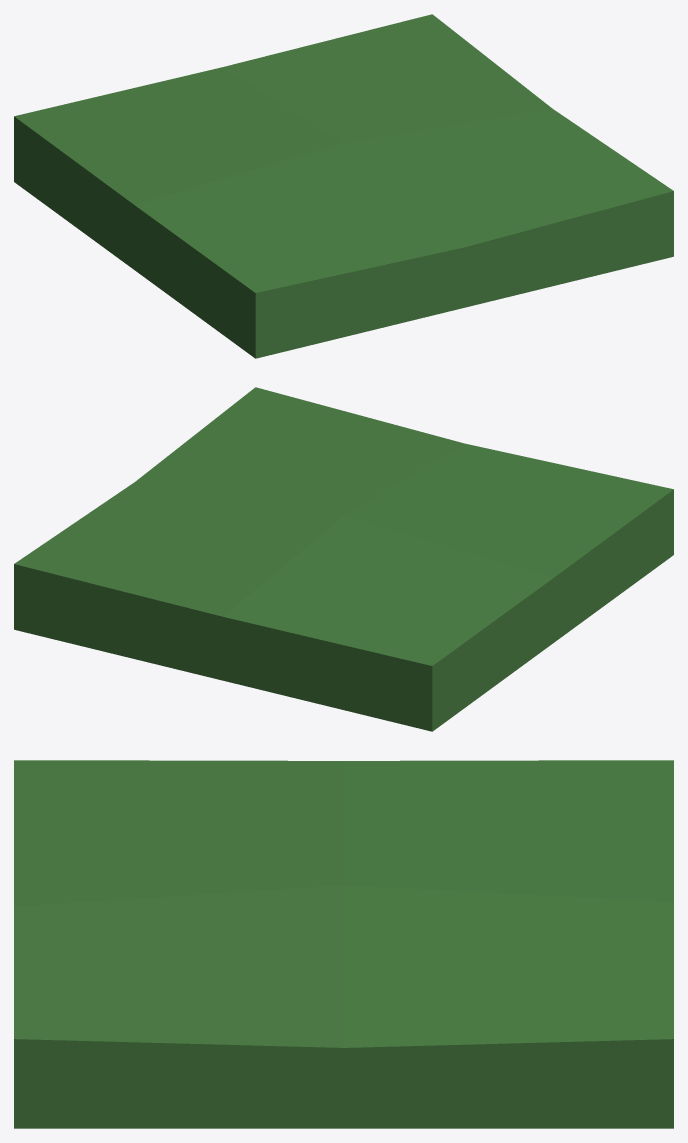
The model's file is Grass2x2.fbx.
3 views of the same model, one above another, from view 1: azimuth 30°, elevation 25°; view 2: azimuth 150°, elevation 25°; view 3: azimuth 270°, elevation 25° (orthographic). The views are drawn at different scales.
Parts seen in each view (by area): view 1: Cube; view 2: Cube; view 3: Cube.
Part boxes in pixels (<box>): Cube: <box>14,14,673,358</box>; Cube: <box>14,387,673,731</box>; Cube: <box>14,760,673,1128</box>.
Size of the model in its own units: 200 by 34.82 by 200.
